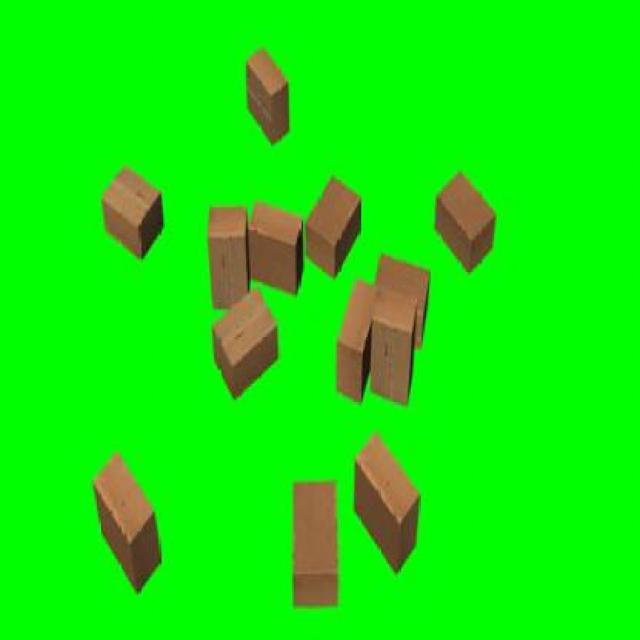box: (344, 426, 434, 603), (84, 443, 174, 617), (202, 293, 288, 410), (236, 24, 301, 166), (99, 156, 170, 285), (432, 154, 498, 288), (289, 474, 345, 629), (240, 198, 309, 318), (368, 240, 438, 358), (332, 261, 378, 429), (366, 284, 422, 421), (300, 172, 368, 278), (204, 194, 250, 320)
